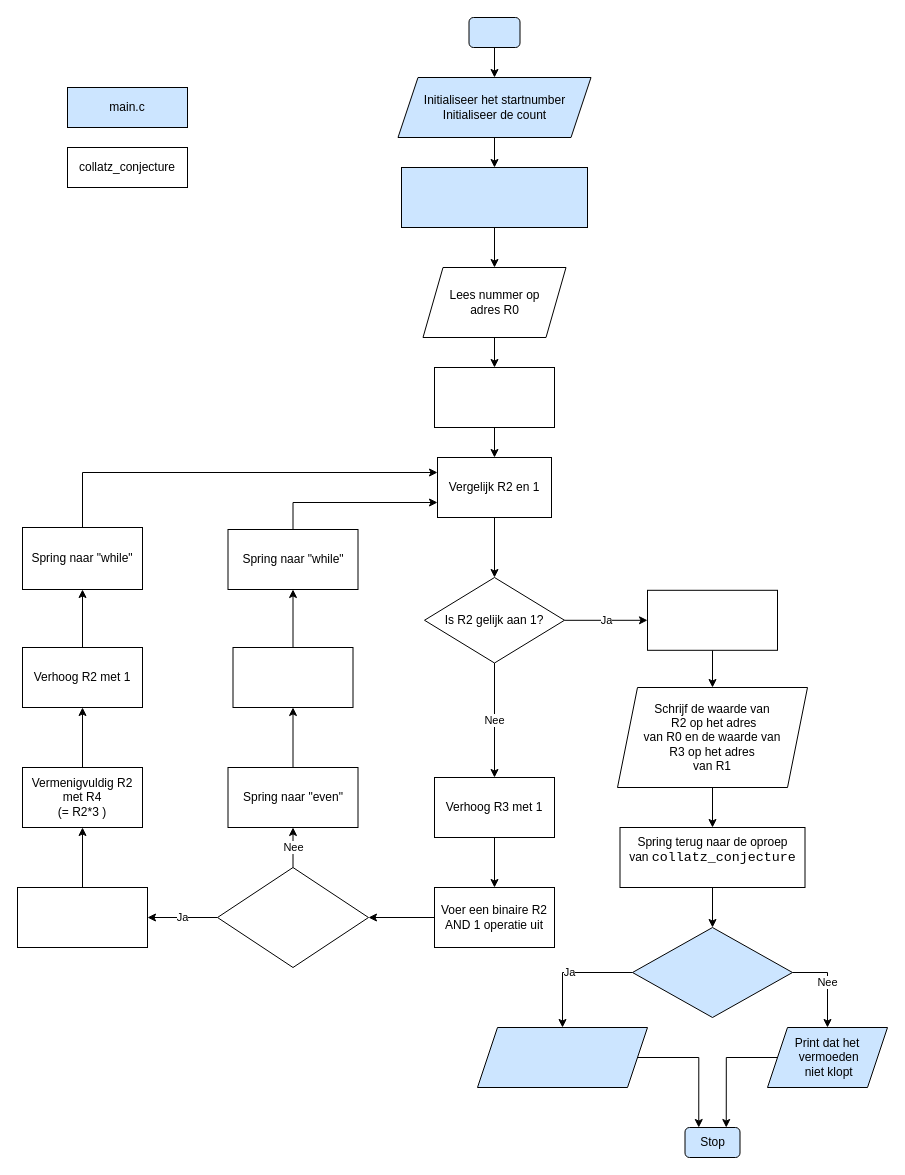
Some shapes in this 905 by 1175 pixel diagram are drawn without their labels. Each missing label, with the centre of its shape:
Is de "zero flag" leeg?: point 292,917
Is de nieuwe nummer gelijk aan 1?: point 712,972
Logische shift operatie op R2 (= delen door 2): point 292,677
Plaats nummer in R2 Zet R3 op 0 Zet R4 op 3: point 494,397
Print dat het vermoeden klopt en print het aantal iteraties: point 562,1057
Roep de collatz_conjecture functie: point 494,197
Spring naar "end": point 712,619
Spring naar "uneven": point 82,917
Start: point 494,32
